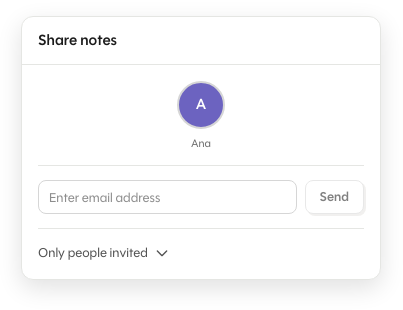
Test case: ShareMeetingPopover › sends a share email and shows the address as shared
The width and height of the screenshot is (403, 310).
Type "zoe@x.com" into the field with class "email-input" at (167, 197), box [38,180,297,214]
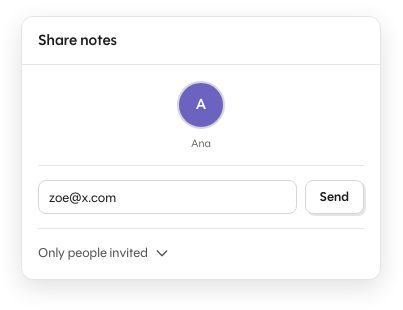
Click the button "Send" at (334, 197), box [305,180,364,214]
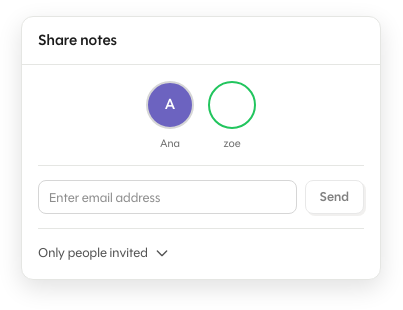
Check: the text "zoe" is shown, box [223,134,241,151]
